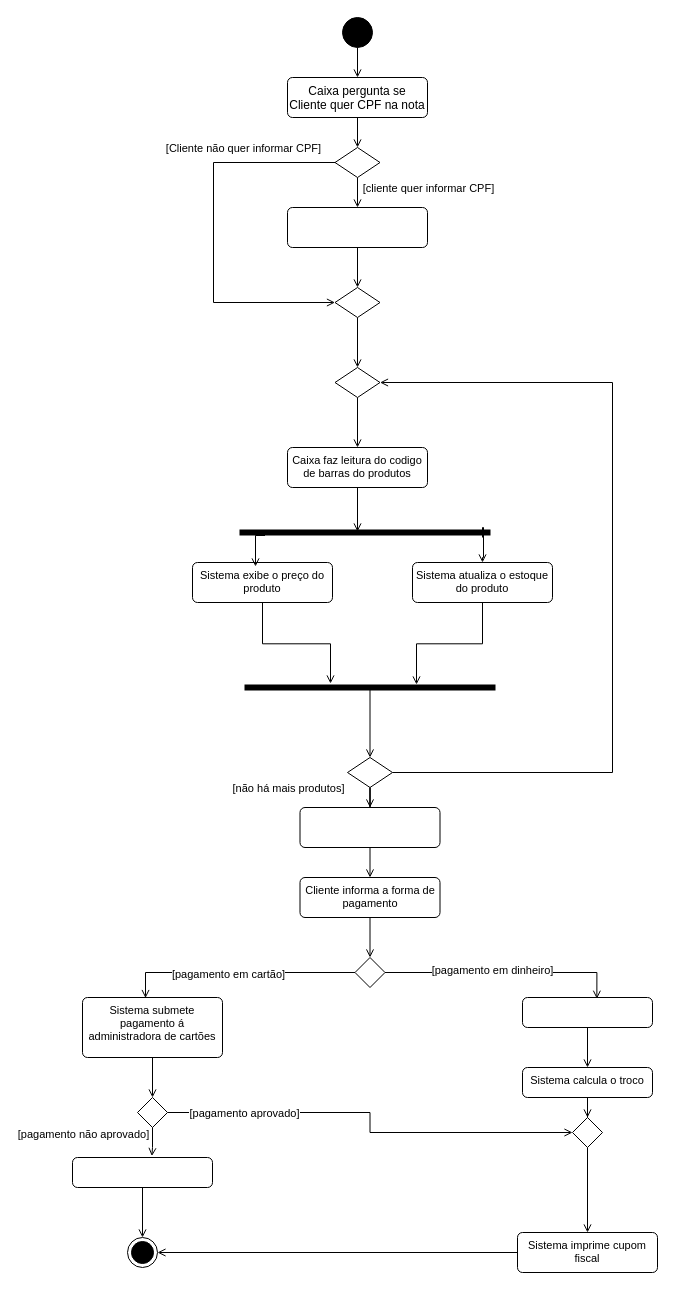
Image size: 675x1290. Some labels were removed from this diagram. Each missing label, with the centre of its shape:
caixa digita valor recebido: point (587, 1012)
Caixa pergunta sobre a forma de pagamento: point (369, 827)
Cliente digita CPF: point (357, 227)
sistema cancela a venda: point (142, 1172)
